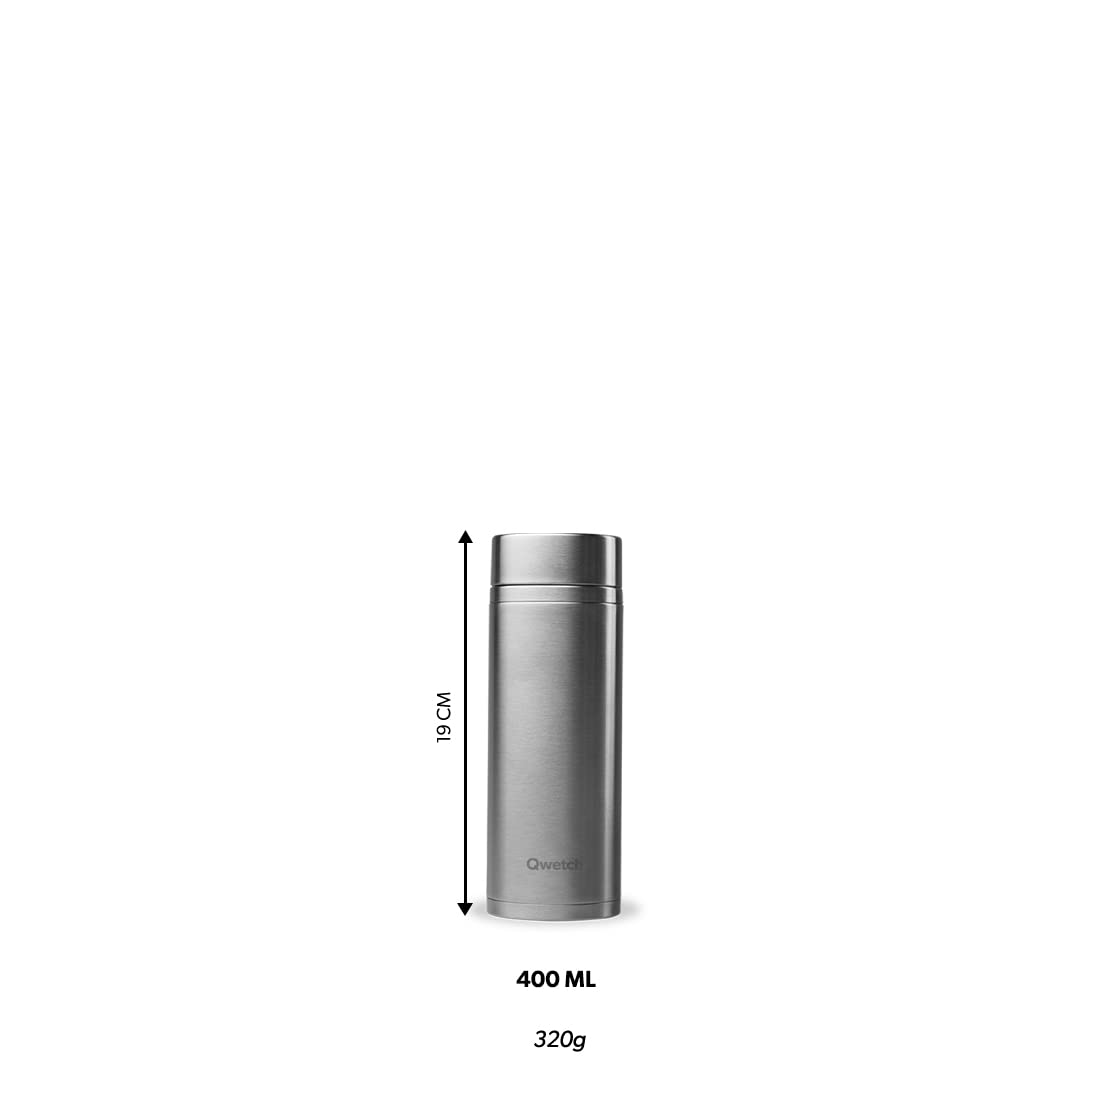19CM: (436, 692, 451, 743)
320g: (534, 1030, 586, 1052)
400: (516, 970, 560, 987)
ML: (565, 971, 596, 987)
